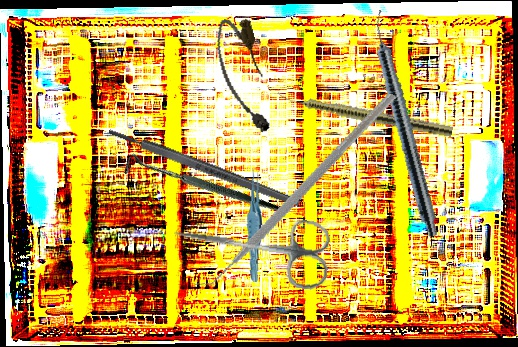Cannula: (209, 13, 278, 139)
Chopper: (185, 60, 398, 318)
Handpiece: (364, 8, 446, 239), (275, 90, 454, 138)
Hook Surgical: (119, 106, 282, 270)
Iris Scissors: (169, 202, 334, 292)
Scalpel Handle: (107, 125, 301, 210)
Tissue Forceps: (241, 166, 269, 283)
